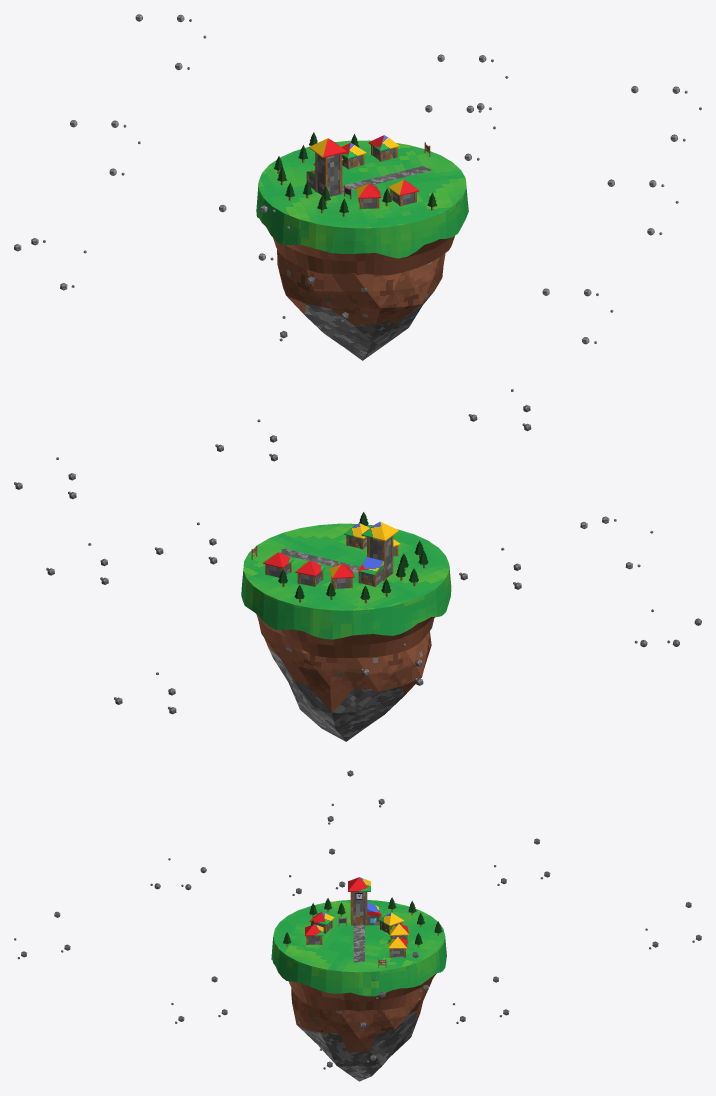
Rendered from main_menu_islandglb.glb.
3 renders of one model, top to bottom at view 1: azimuth 30°, elevation 25°; view 2: azimuth 150°, elevation 25°; view 3: azimuth 270°, elevation 25°, orthographic. The views are drawn at different scales.
Parts seen in each view (by area): view 1: Island, Rocks, Street; view 2: Island, Rocks; view 3: Island, Rocks.
Boxes of the visible parts, x1,y1,x2,y2 form: Island: (256,132,468,360); Rocks: (14,14,701,344); Street: (342,166,431,192); Island: (241,512,451,741); Rocks: (14,389,701,714); Island: (271,877,446,1081); Rocks: (14,770,701,1069).
Size of the model in its own units: 347 by 112 by 366.
Materials: 13 (11 with a texture image).
